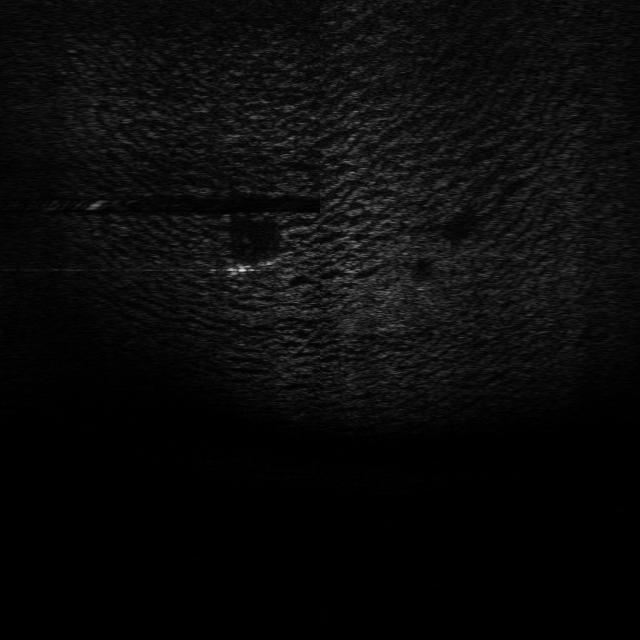plane: (223, 249, 292, 277)
